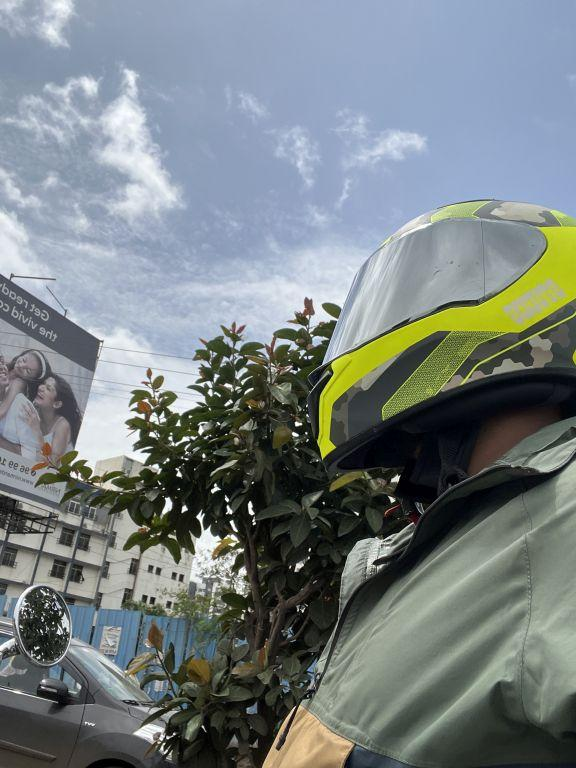helmet: (299, 174, 576, 463)
